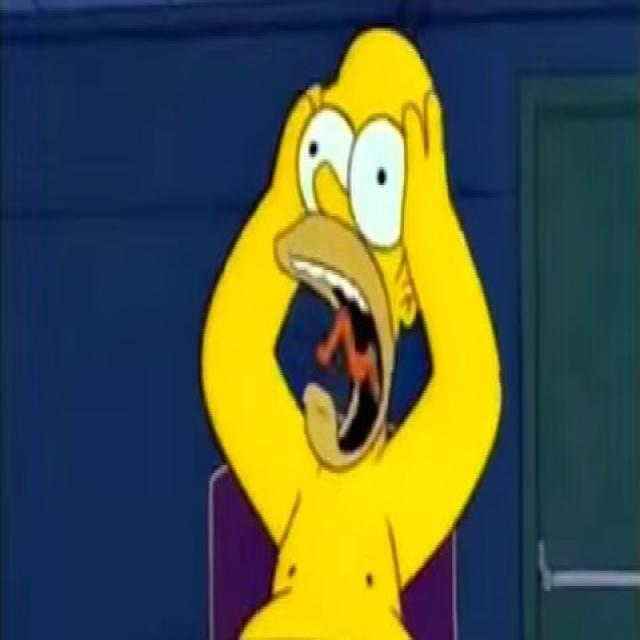Homer Simpson: (271, 18, 449, 486)
